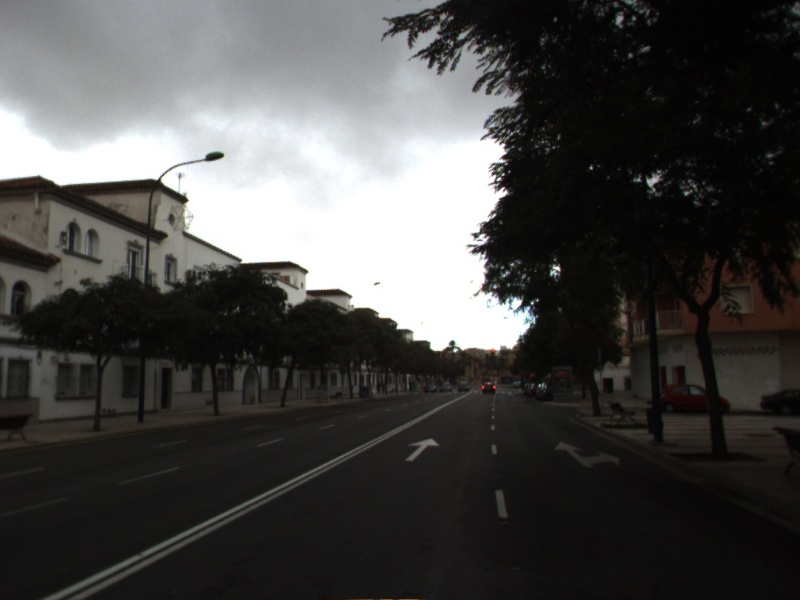STRAIGHT: (404, 436, 442, 463)
STRAIGHT_RIGHT: (553, 440, 621, 469)
